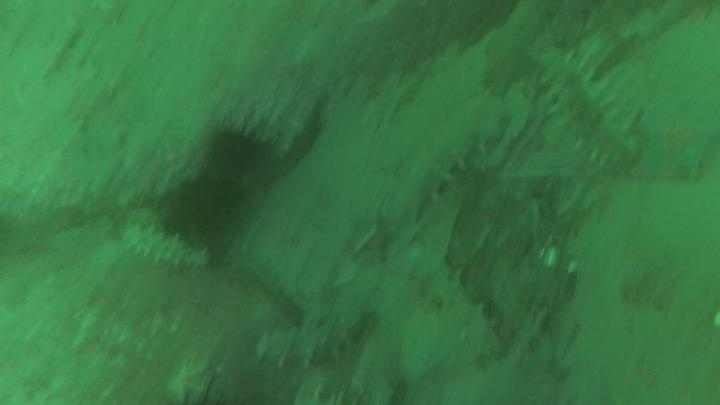echinus: (162, 173, 244, 244), (204, 121, 269, 179)
holothurian: (531, 44, 642, 174), (400, 247, 507, 362), (381, 123, 493, 224), (249, 304, 376, 371), (117, 219, 212, 273)
starfish: (630, 106, 718, 184), (478, 31, 540, 98), (348, 211, 402, 266), (163, 354, 218, 405)
